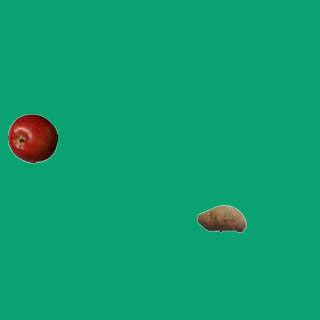Apple Braeburn: (7, 113, 57, 163)
Potato Sweet: (196, 193, 246, 243)
